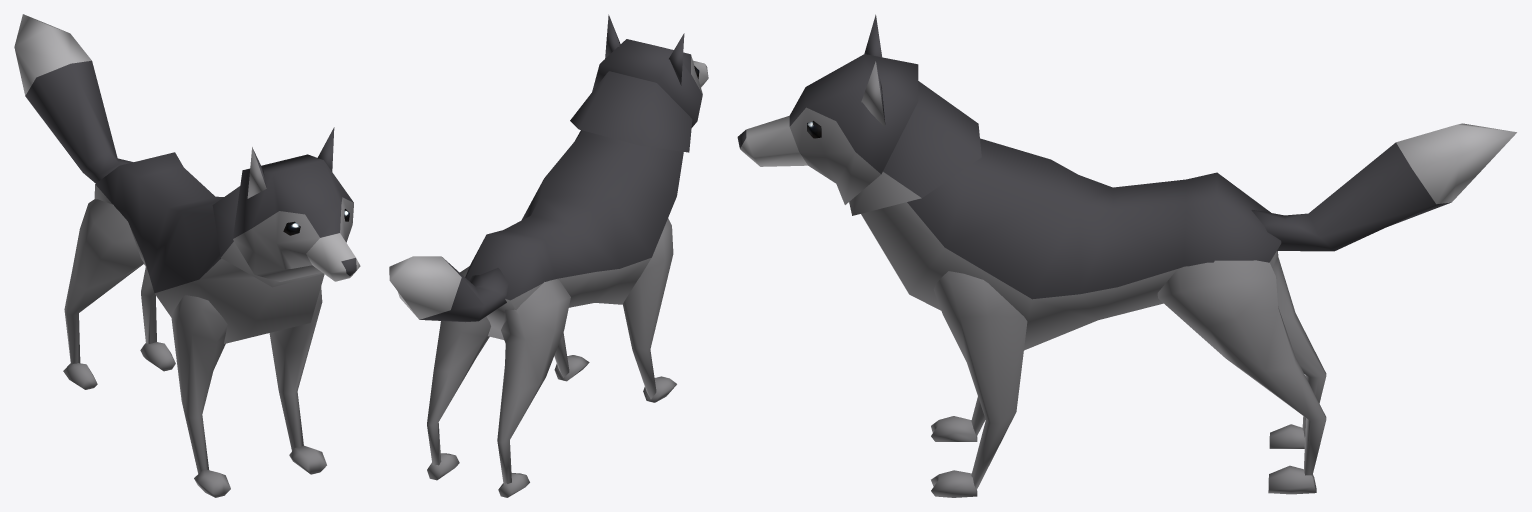
Rendered from 64b681ed-bdd8-4092-83e1-b5d5755fb590.glb.
3 views of the same model, side by side, from view 1: azimuth 30°, elevation 25°; view 2: azimuth 150°, elevation 25°; view 3: azimuth 270°, elevation 25° (orthographic). The views are drawn at different scales.
Parts seen in each view (by area): view 1: Wolf; view 2: Wolf; view 3: Wolf.
Part boxes in pixels (x1,y1,x2,y2): Wolf: (14,14,360,497); Wolf: (389,14,708,497); Wolf: (737,14,1516,497).
Size of what is drawn, in the model's own units: 0.5574 by 1.35 by 2.23.
2 materials, 2 textured.
